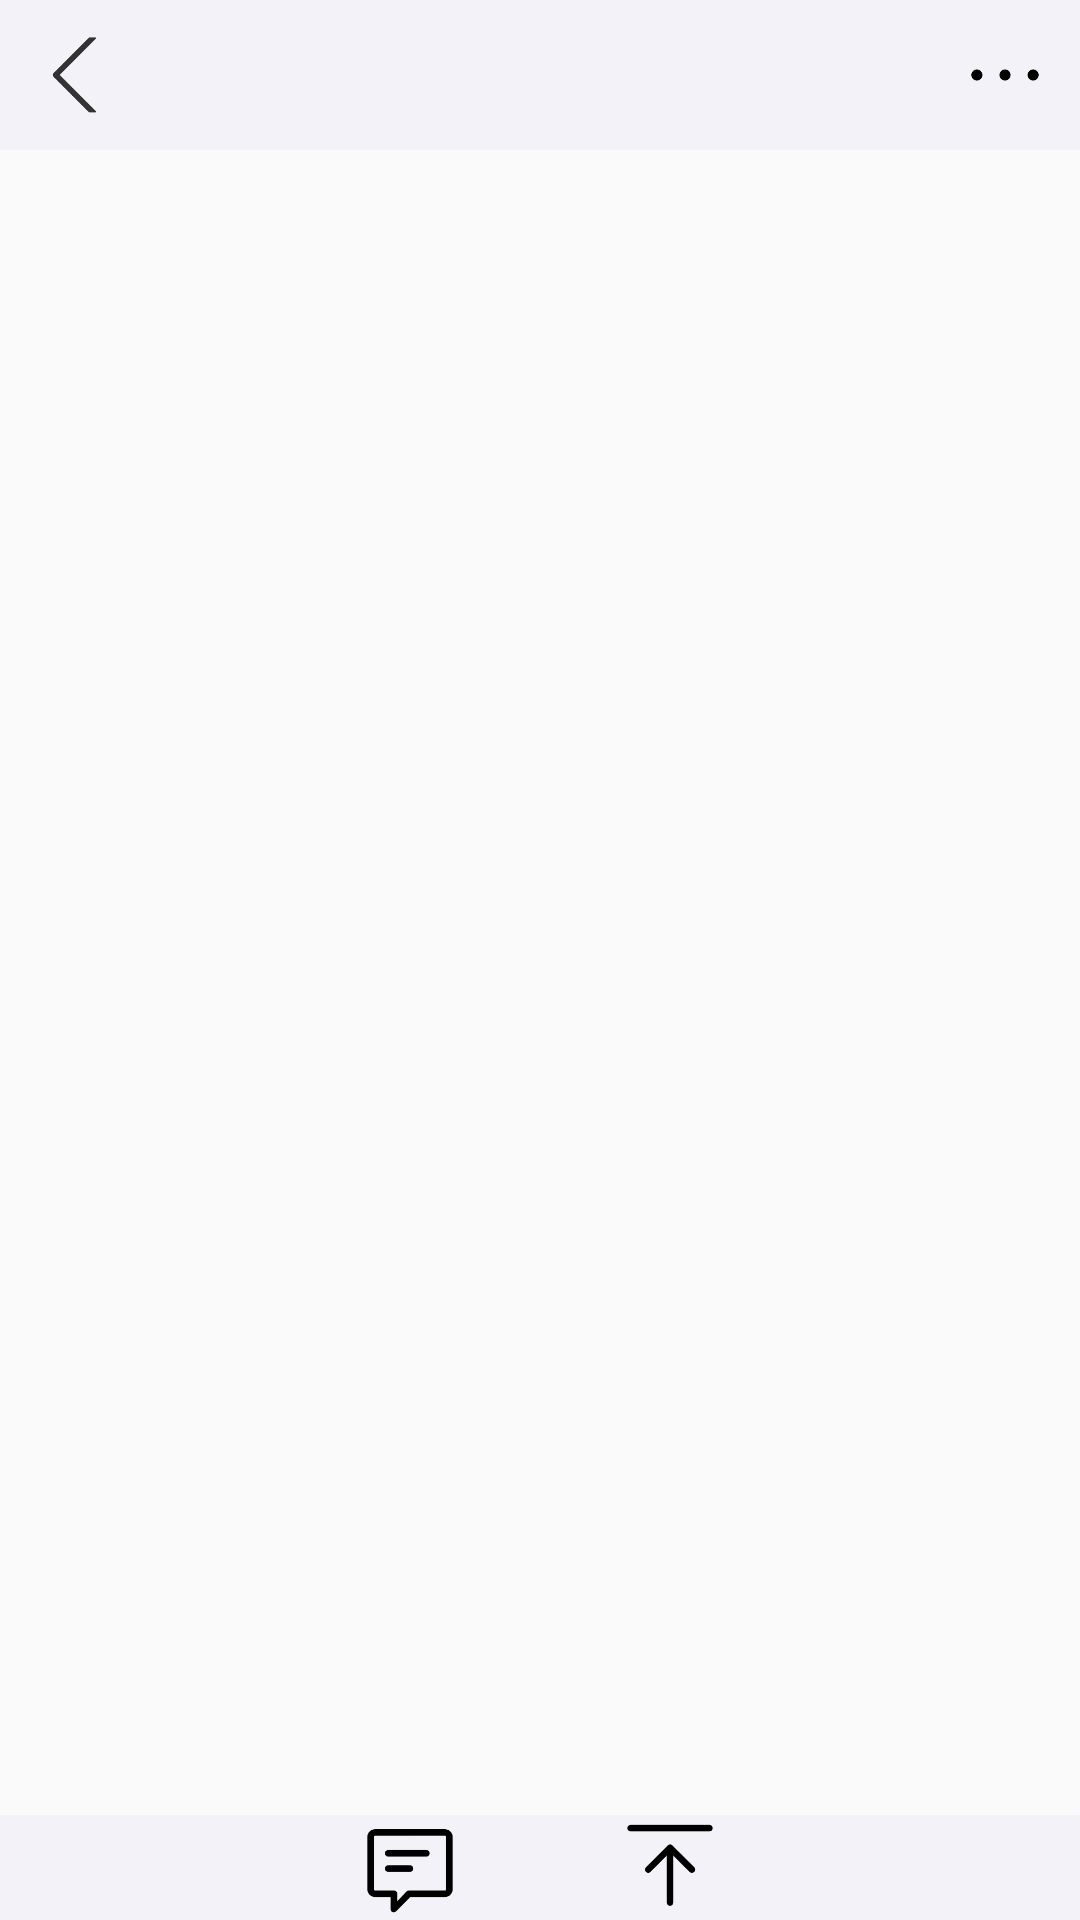

Icons on this 1080px×1920px Android screen, each with its box as detection(x1, y1, x2, y2):
back: detection(53, 37, 96, 113)
comment: detection(367, 1829, 453, 1913)
top: detection(627, 1824, 713, 1906)
